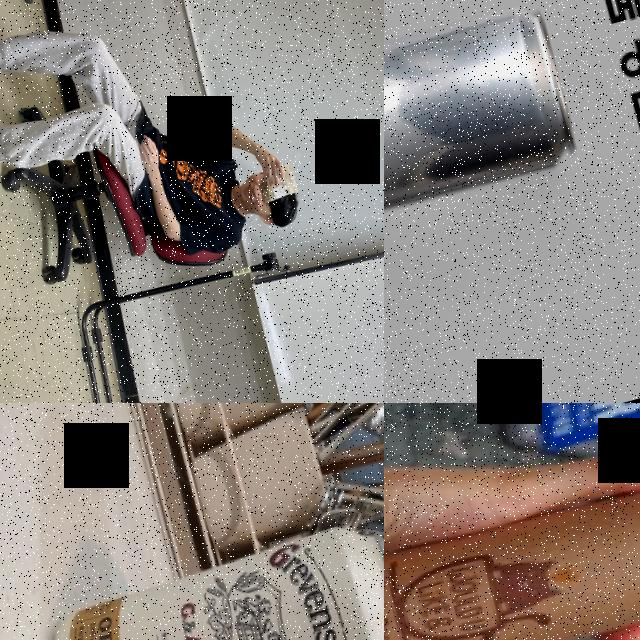can: (384, 436, 640, 640), (384, 0, 582, 239), (23, 511, 384, 640)
cup: (252, 160, 302, 206)
